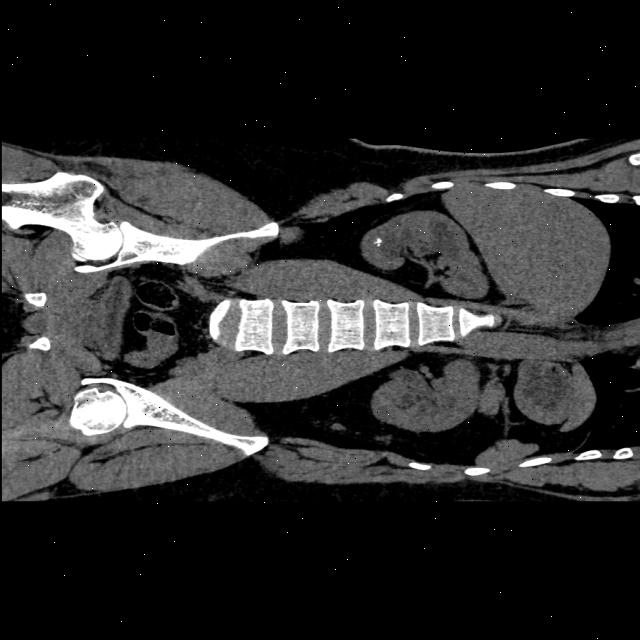kidneystone: (373, 238, 382, 246)
